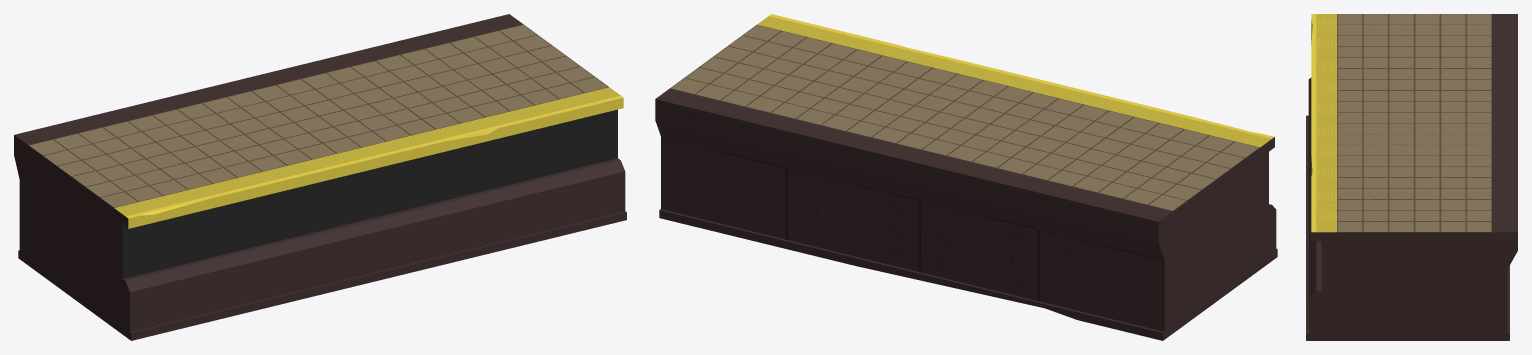
The model's file is SW_ENV_EL_StationBaseMid.fbx.
The picture shows the model from 3 angles, left to right: view 1: azimuth 30°, elevation 25°; view 2: azimuth 150°, elevation 25°; view 3: azimuth 270°, elevation 25°; orthographic projection. The views are drawn at different scales.
Visible parts, largest first — view 1: SW_ENV_EL_StationBaseMid; view 2: SW_ENV_EL_StationBaseMid; view 3: SW_ENV_EL_StationBaseMid.
Boxes of the visible parts, x1,y1,x2,y2 form: SW_ENV_EL_StationBaseMid: [14, 14, 626, 340]; SW_ENV_EL_StationBaseMid: [655, 14, 1277, 340]; SW_ENV_EL_StationBaseMid: [1306, 14, 1517, 340].
Bounding box in the file's own units: 1001 × 232 × 410.
